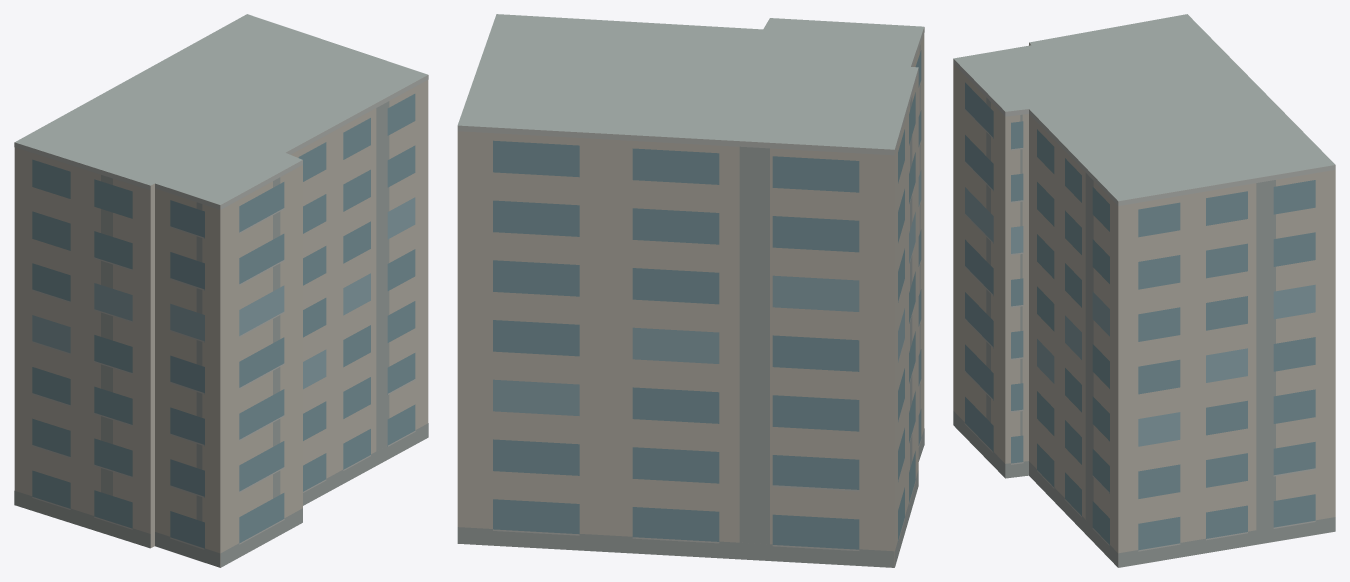
Rendered from survey-upis-32860298.glb.
3 views of the same model, side by side, from view 1: azimuth 30°, elevation 25°; view 2: azimuth 150°, elevation 25°; view 3: azimuth 270°, elevation 25° (orthographic). The views are drawn at different scales.
Visible parts, largest first — view 1: survey-upis-32860298.tmp; view 2: survey-upis-32860298.tmp; view 3: survey-upis-32860298.tmp.
Boxes of the visible parts, bbox=[...] form: survey-upis-32860298.tmp: bbox=[14, 14, 428, 567]; survey-upis-32860298.tmp: bbox=[457, 14, 924, 567]; survey-upis-32860298.tmp: bbox=[953, 14, 1335, 567].
Size of the model in its own units: 19.95 by 18.2 by 17.21.
